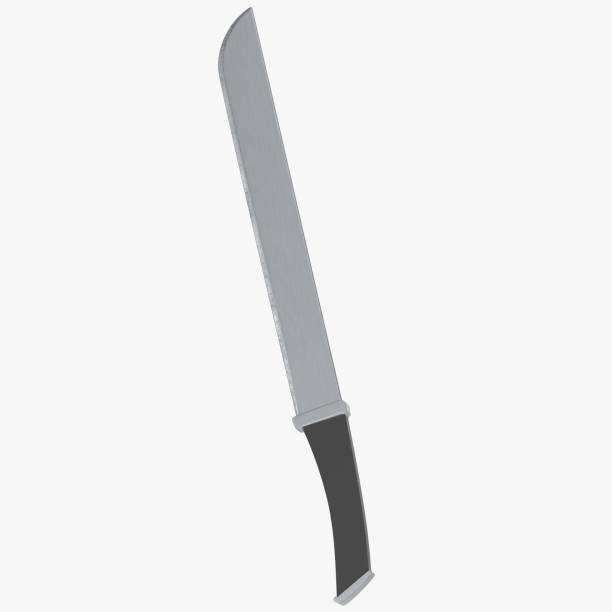knife: (217, 6, 375, 603)
